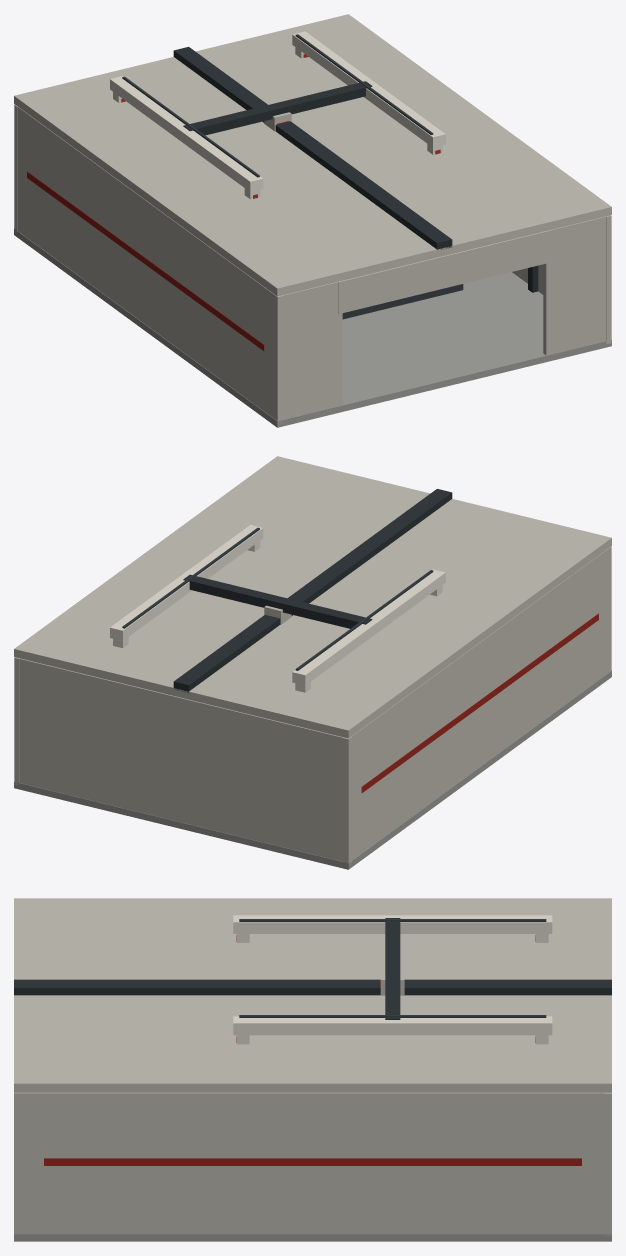
The picture shows the model from 3 angles, top to bottom: view 1: azimuth 30°, elevation 25°; view 2: azimuth 150°, elevation 25°; view 3: azimuth 270°, elevation 25°; orthographic projection. The views are drawn at different scales.
Parts seen in each view (by area): view 1: warehouse-roof-painted, fleet-warehouse-painted, warehouse-printer--vehicle-printer-fleet-armor, warehouse-printer--printer-gantry-painted, warehouse-printer--vehicle-printer-fleet-machine; view 2: warehouse-roof-painted, fleet-warehouse-painted, warehouse-printer--vehicle-printer-fleet-armor, warehouse-printer--printer-gantry-painted, warehouse-printer--vehicle-printer-fleet-machine; view 3: warehouse-roof-painted, fleet-warehouse-painted, warehouse-printer--vehicle-printer-fleet-armor, warehouse-printer--vehicle-printer-fleet-machine, warehouse-printer--printer-gantry-painted.
Part boxes in pixels (x1,y1,x2,y2): warehouse-roof-painted: (14, 14, 611, 296); fleet-warehouse-painted: (14, 104, 611, 427); warehouse-printer--vehicle-printer-fleet-armor: (110, 31, 445, 199); warehouse-printer--printer-gantry-painted: (183, 81, 372, 135); warehouse-printer--vehicle-printer-fleet-machine: (122, 34, 463, 319); warehouse-roof-painted: (14, 456, 611, 738); fleet-warehouse-painted: (14, 546, 611, 869); warehouse-printer--vehicle-printer-fleet-armor: (110, 525, 445, 692); warehouse-printer--printer-gantry-painted: (183, 574, 372, 628); warehouse-printer--vehicle-printer-fleet-machine: (122, 527, 433, 670); warehouse-roof-painted: (14, 898, 611, 1092); fleet-warehouse-painted: (14, 1092, 611, 1241); warehouse-printer--vehicle-printer-fleet-armor: (233, 915, 552, 1044); warehouse-printer--vehicle-printer-fleet-machine: (239, 919, 546, 1017); warehouse-printer--printer-gantry-painted: (385, 918, 400, 1019).
Bounding box in the file's own units: 116 × 52.84 × 158.
